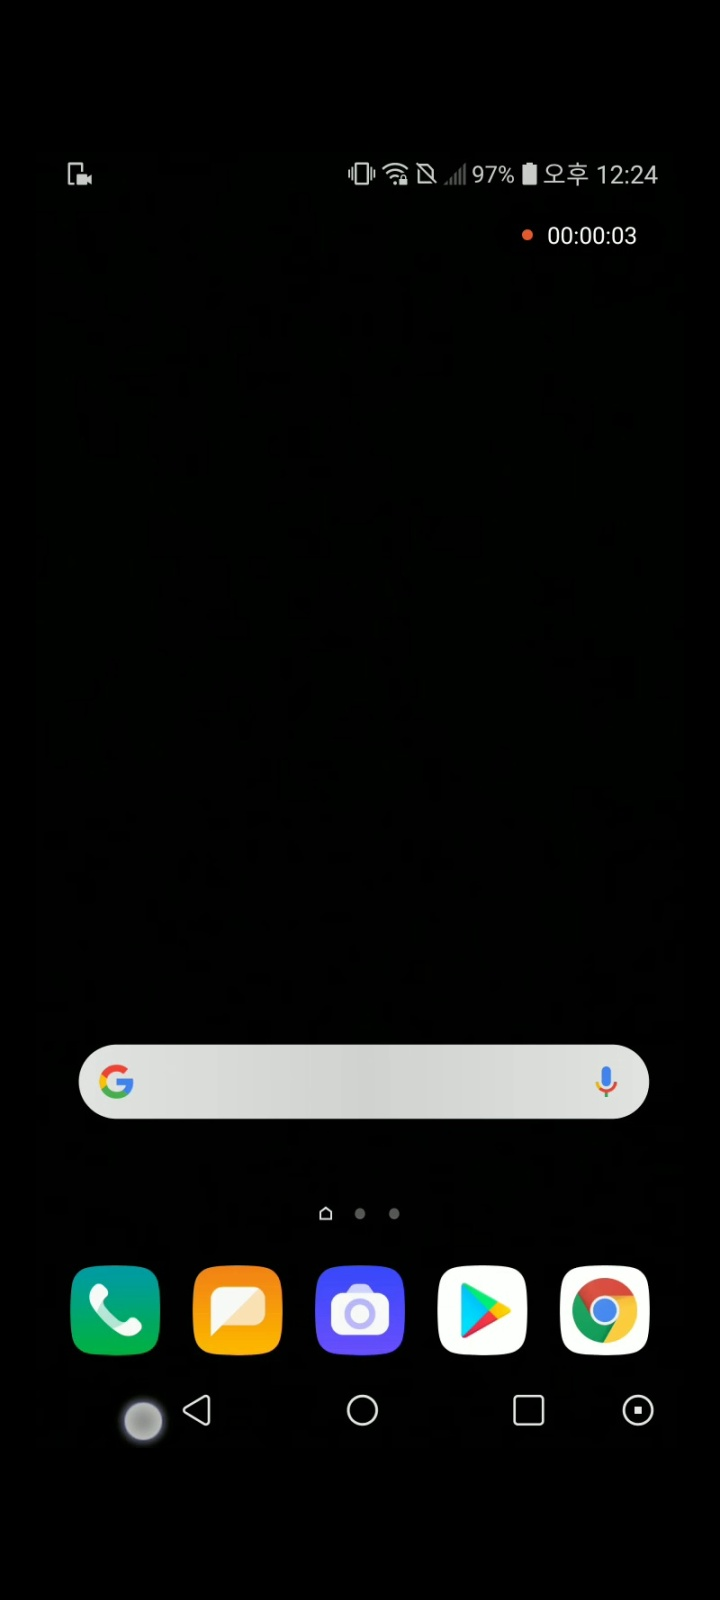Cursor: (121, 1400, 166, 1445)
